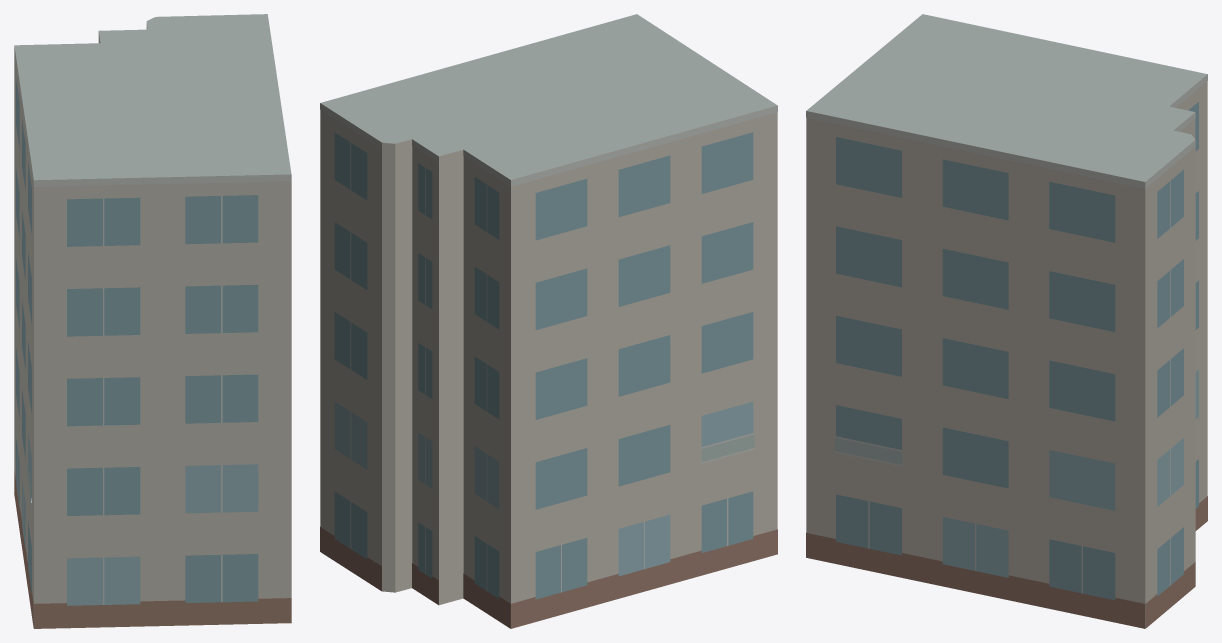
The model's file is survey-upis-32532817.glb.
3 renders of one model, left to right at view 1: azimuth 30°, elevation 25°; view 2: azimuth 150°, elevation 25°; view 3: azimuth 270°, elevation 25°, orthographic.
Parts seen in each view (by area): view 1: survey-upis-32532817.tmp; view 2: survey-upis-32532817.tmp; view 3: survey-upis-32532817.tmp.
Part boxes in pixels (x1,y1,x2,y2): survey-upis-32532817.tmp: (14,14,291,628); survey-upis-32532817.tmp: (320,14,777,628); survey-upis-32532817.tmp: (806,14,1207,628).
Bounding box in the file's own units: 13.07 × 16.2 × 13.2.
